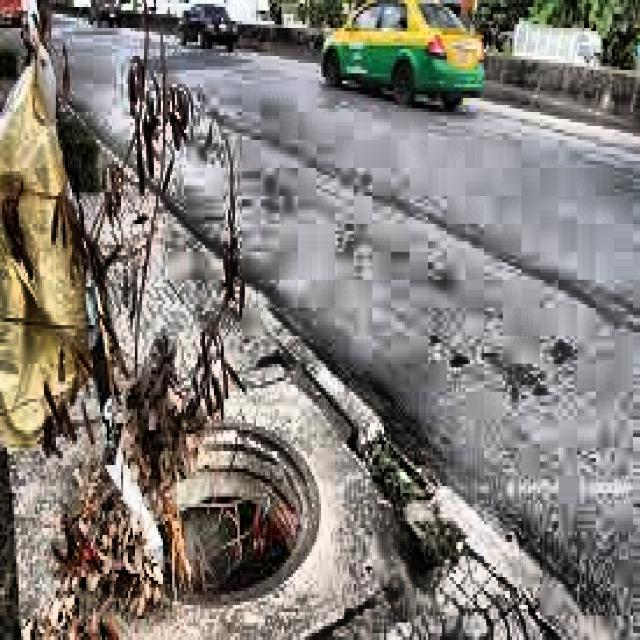open_manhole: (177, 423, 319, 595), (54, 457, 168, 611)
